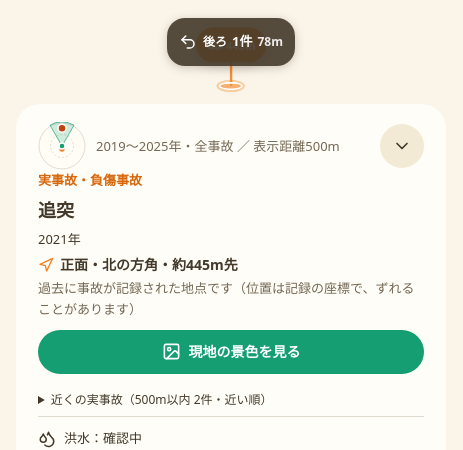
it: AR accidents outside the camera view › shows records behind the camera in the dock, the edge guide and the turn hint
The width and height of the screenshot is (463, 450).
Expected: the button named "実事故 約445m" is shown, [196,28,266,90]
Click the button with aria-label "後ろに実事故1件・最寄り約78m" at (231, 42), box [167,18,295,66]
(page scrolled)
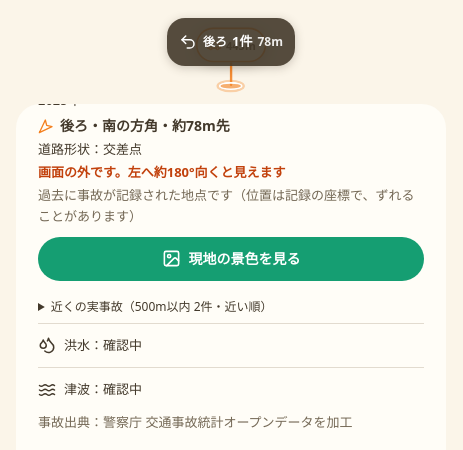
Expected: the text "後ろ・南の方角・約78m先" is shown, [38,116,230,135]
Expected: the text "道路形状：交差点" is shown, [38,140,142,158]
Expected: the text "画面の外です。.へ約180°向くと見えます" is shown, [38,163,286,181]
